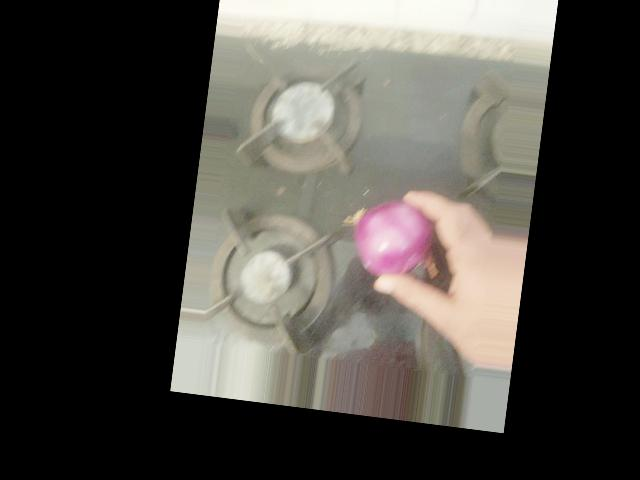onion: (345, 194, 442, 287)
